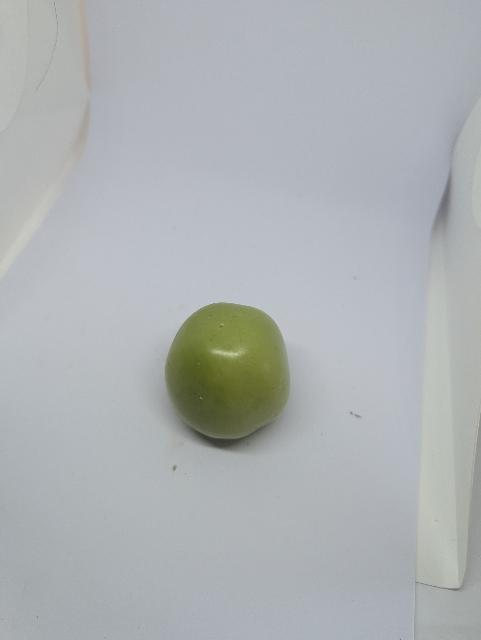green: (160, 293, 300, 453)
